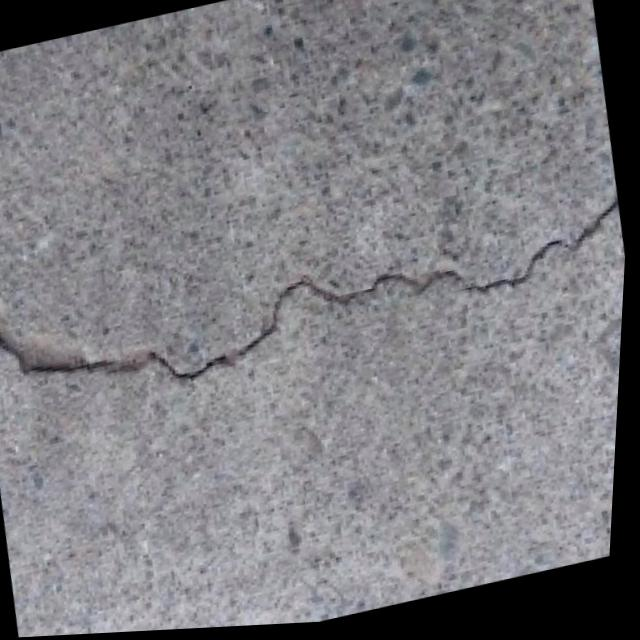Crack: (0, 152, 633, 460)
